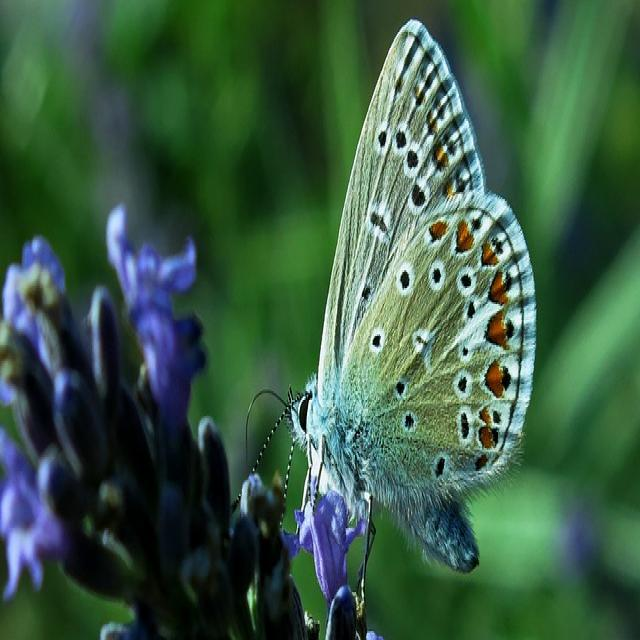butterfly: (288, 20, 536, 576)
